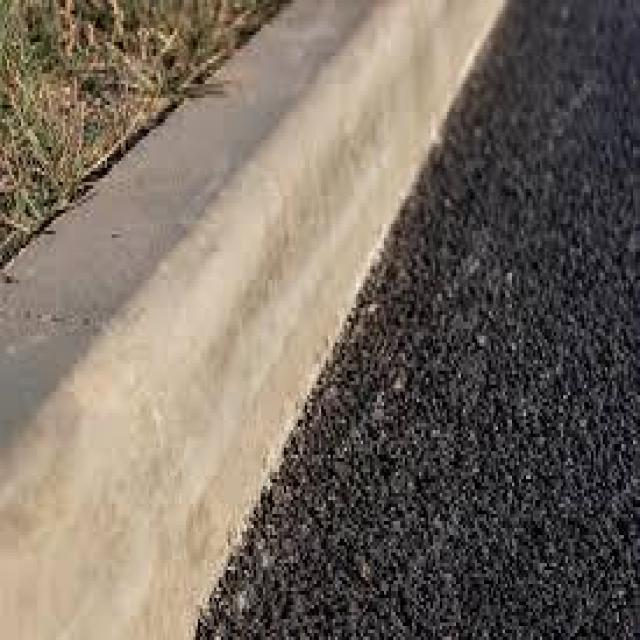curb: (5, 1, 515, 632)
